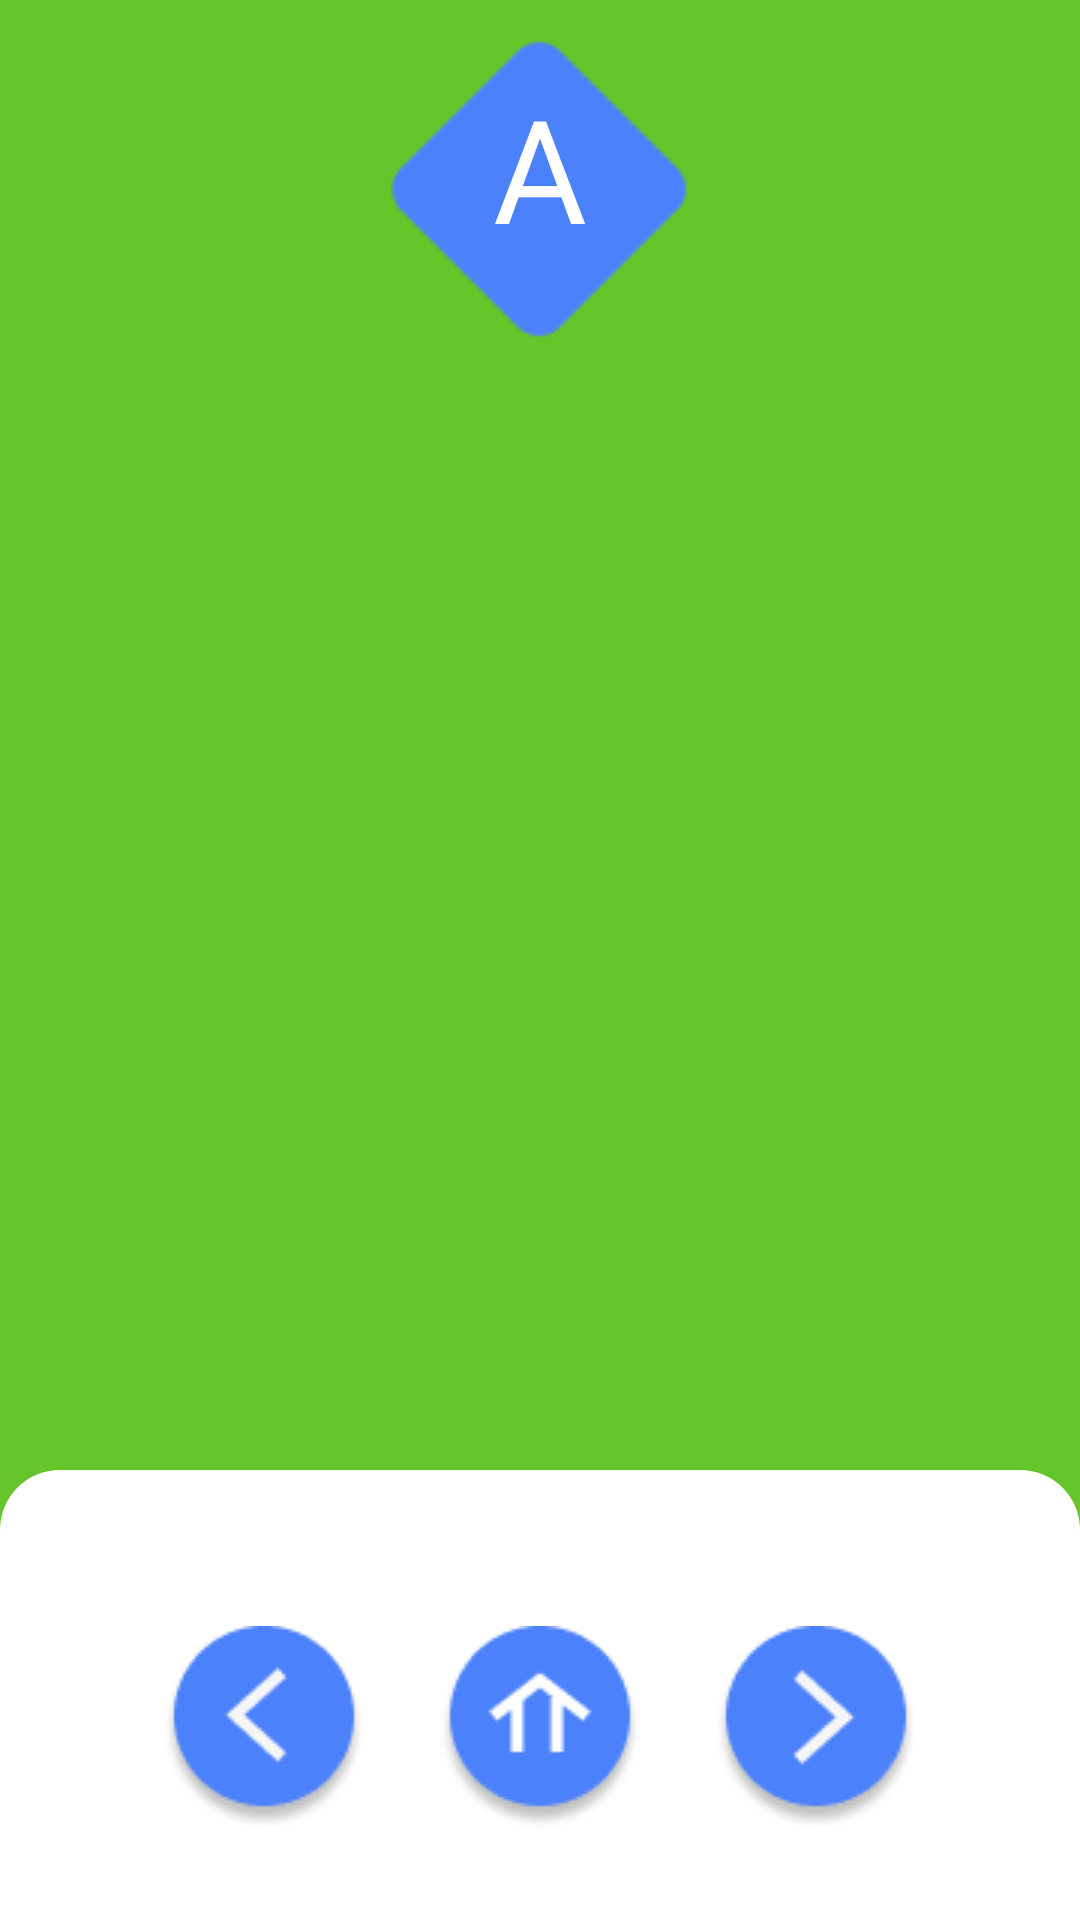

Where to tap for icons on this 1080 x 1920 app screen, as point (x, y):
back home: point (540, 1723)
next: point (816, 1723)
prev: point (264, 1723)
